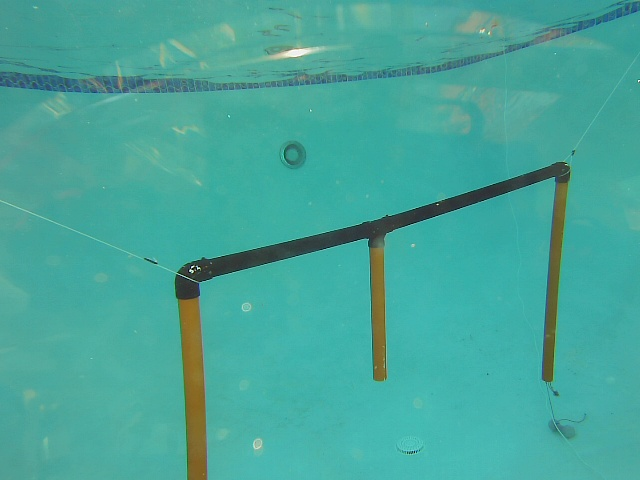Gate: (536, 171, 572, 391), (173, 291, 212, 480), (368, 241, 391, 384)
